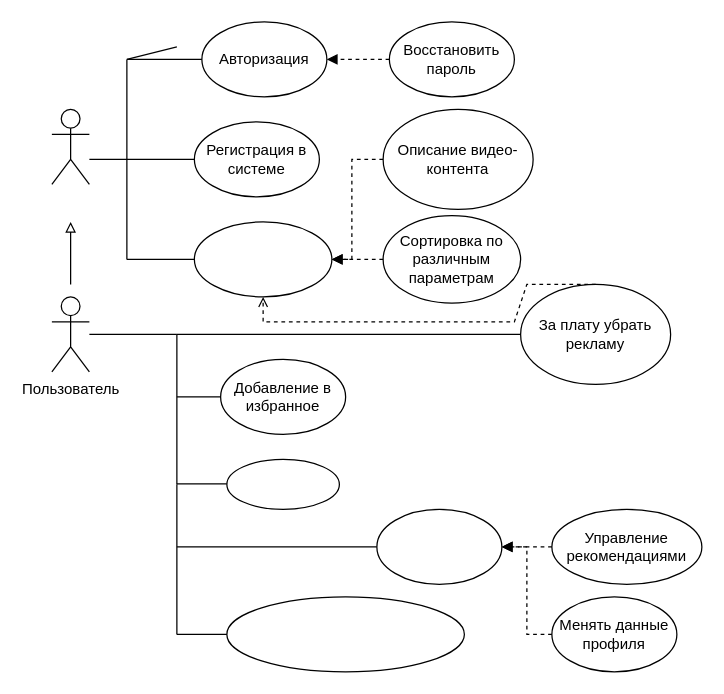
Some shapes in this 724 by 694 pixel diagram are drawn without their labels. Here are the shapes that lost their labels. From the top down, the centre of each, then its label:
At (70,146): "Гость".
At (262,259): "Смотреть видео-контент".
At (282,483): "Оценивать контент".
At (439,546): "Управление профилем".
At (345,634): "Получать подборку, в зависимости от последних просмотренных фильмов".
